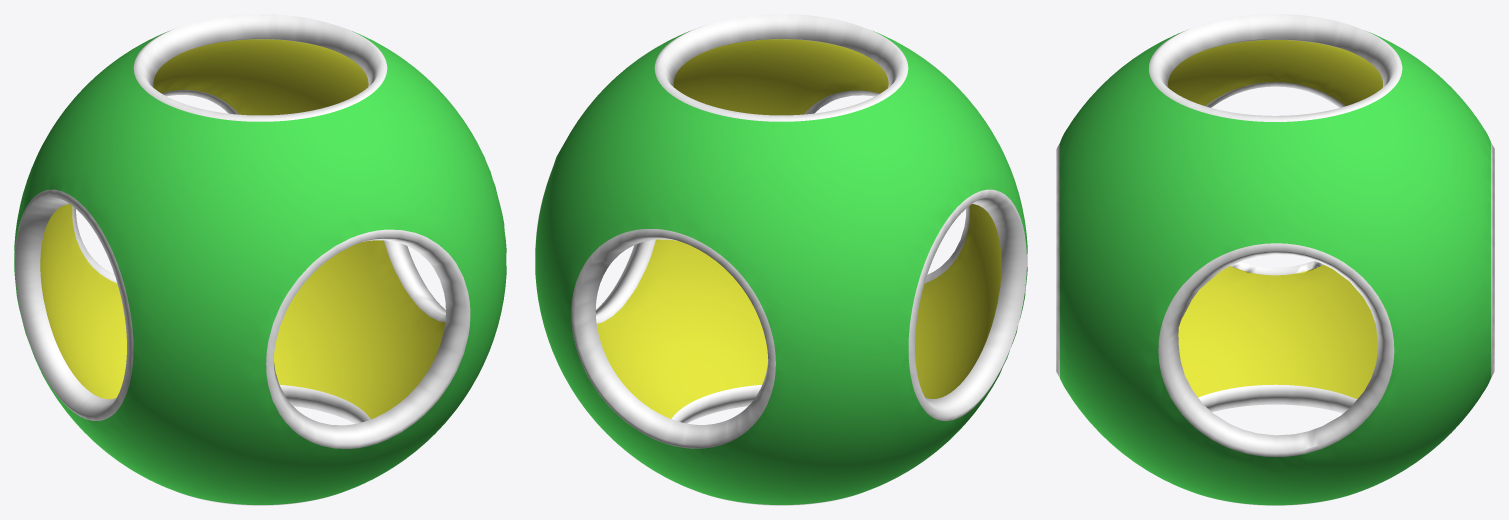
Rendered from globuscassus.fbx.
3 renders of one model, left to right at view 1: azimuth 30°, elevation 25°; view 2: azimuth 150°, elevation 25°; view 3: azimuth 270°, elevation 25°, orthographic.
Visible parts, largest first — view 1: Sphere; view 2: Sphere; view 3: Sphere.
Part boxes in pixels (x1,y1,x2,y2): Sphere: (14,14,506,505); Sphere: (535,14,1027,505); Sphere: (1056,14,1494,505).
Size of the model in its own units: 178 by 175 by 178.
